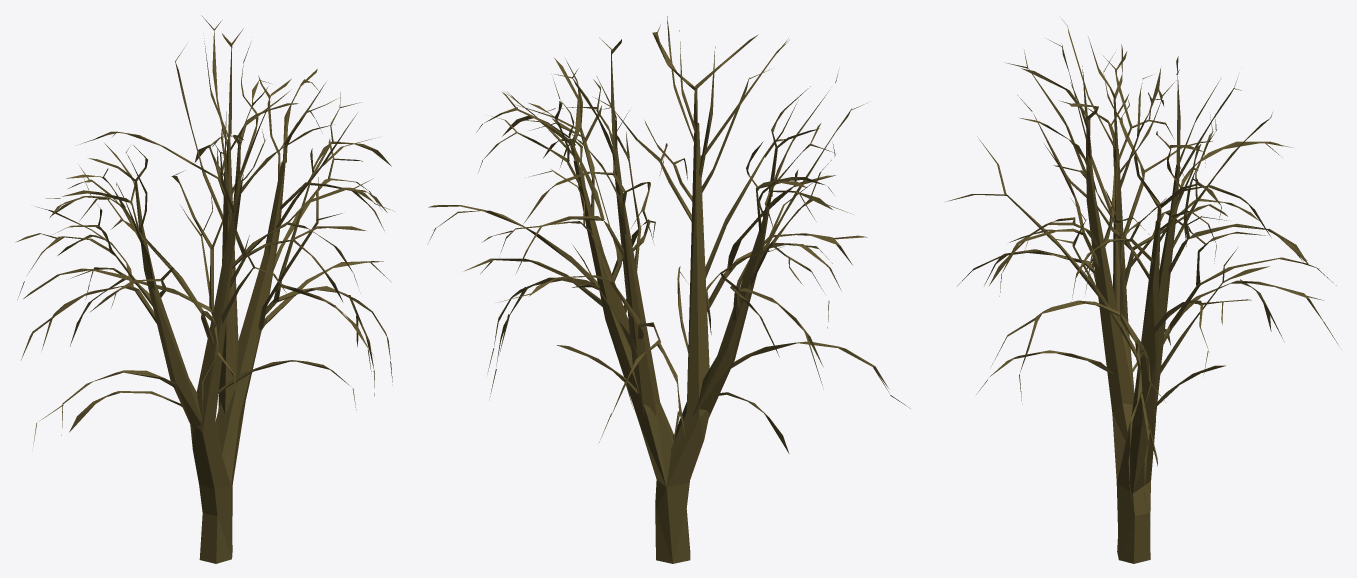
The model's file is taller tree.fbx.
3 views of the same model, side by side, from view 1: azimuth 30°, elevation 25°; view 2: azimuth 150°, elevation 25°; view 3: azimuth 270°, elevation 25° (orthographic). The views are drawn at different scales.
Visible parts, largest first — view 1: tree.002; view 2: tree.002; view 3: tree.002.
Boxes of the visible parts, x1=… form: tree.002: x1=15, y1=15, x2=394, y2=563; tree.002: x1=427, y1=16, x2=910, y2=563; tree.002: x1=945, y1=19, x2=1338, y2=563.
Size of the model in its own units: 624 by 733 by 516.
